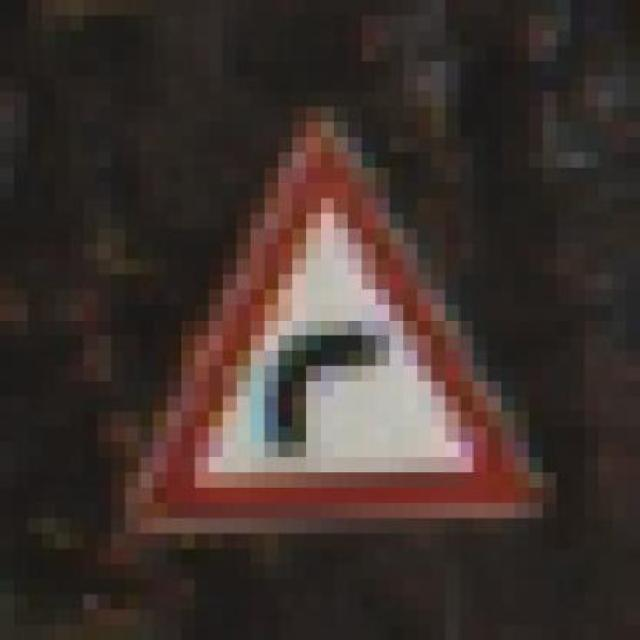Dangerous Rright Curve Ahead: (111, 106, 557, 534)
